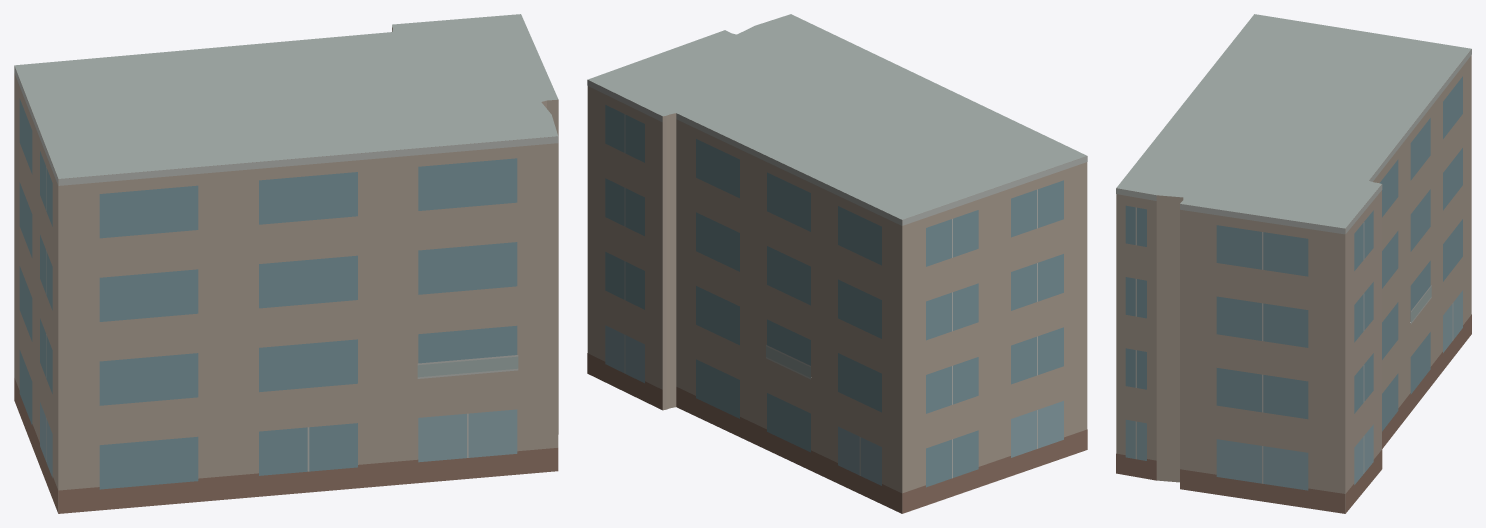
The model's file is survey-upis-32844569.glb.
The picture shows the model from 3 angles, left to right: view 1: azimuth 30°, elevation 25°; view 2: azimuth 150°, elevation 25°; view 3: azimuth 270°, elevation 25°; orthographic projection. The views are drawn at different scales.
Parts seen in each view (by area): view 1: survey-upis-32844569.tmp; view 2: survey-upis-32844569.tmp; view 3: survey-upis-32844569.tmp.
Part boxes in pixels (x1=…): survey-upis-32844569.tmp: x1=14, y1=14, x2=558, y2=513; survey-upis-32844569.tmp: x1=587, y1=14, x2=1087, y2=513; survey-upis-32844569.tmp: x1=1116, y1=14, x2=1471, y2=513.
Size of the model in its own units: 19.04 by 11.8 by 13.34.
